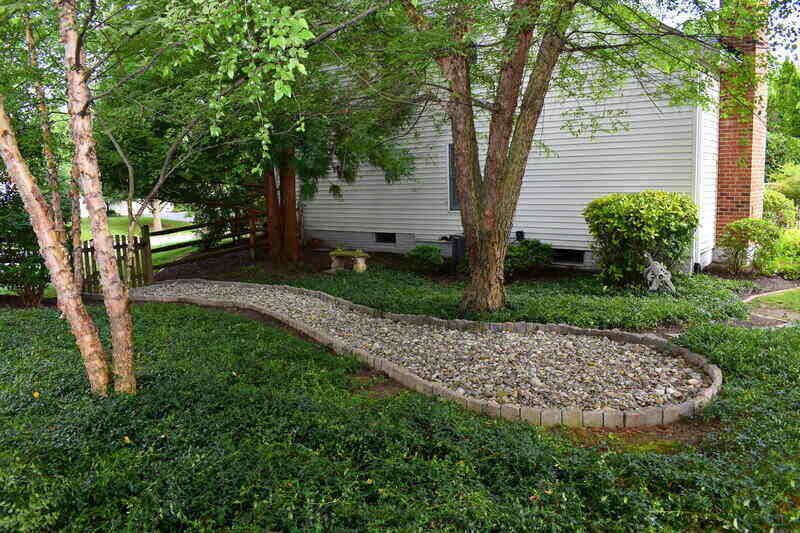grass: (3, 404, 779, 529), (136, 302, 410, 400), (0, 304, 78, 402)
rock: (388, 322, 711, 400), (141, 277, 387, 364)
tree: (1, 128, 135, 400), (446, 30, 563, 310), (266, 172, 298, 264)
